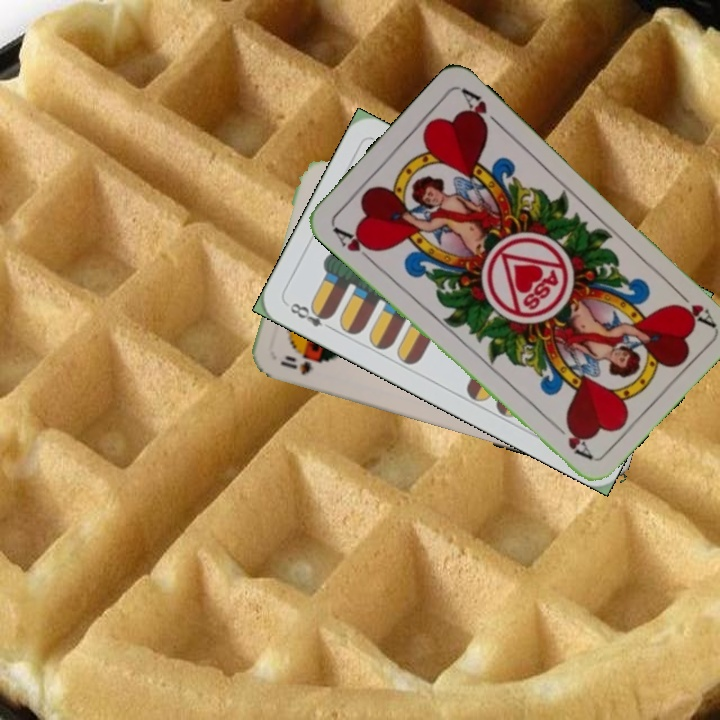E8: (286, 298, 337, 334)
HA: (669, 283, 718, 329), (328, 223, 379, 267)
SO: (276, 351, 324, 378)
